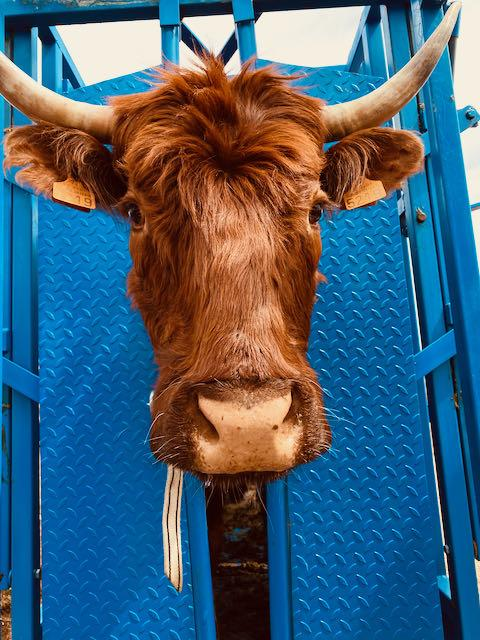muzzles: (140, 377, 334, 483)
